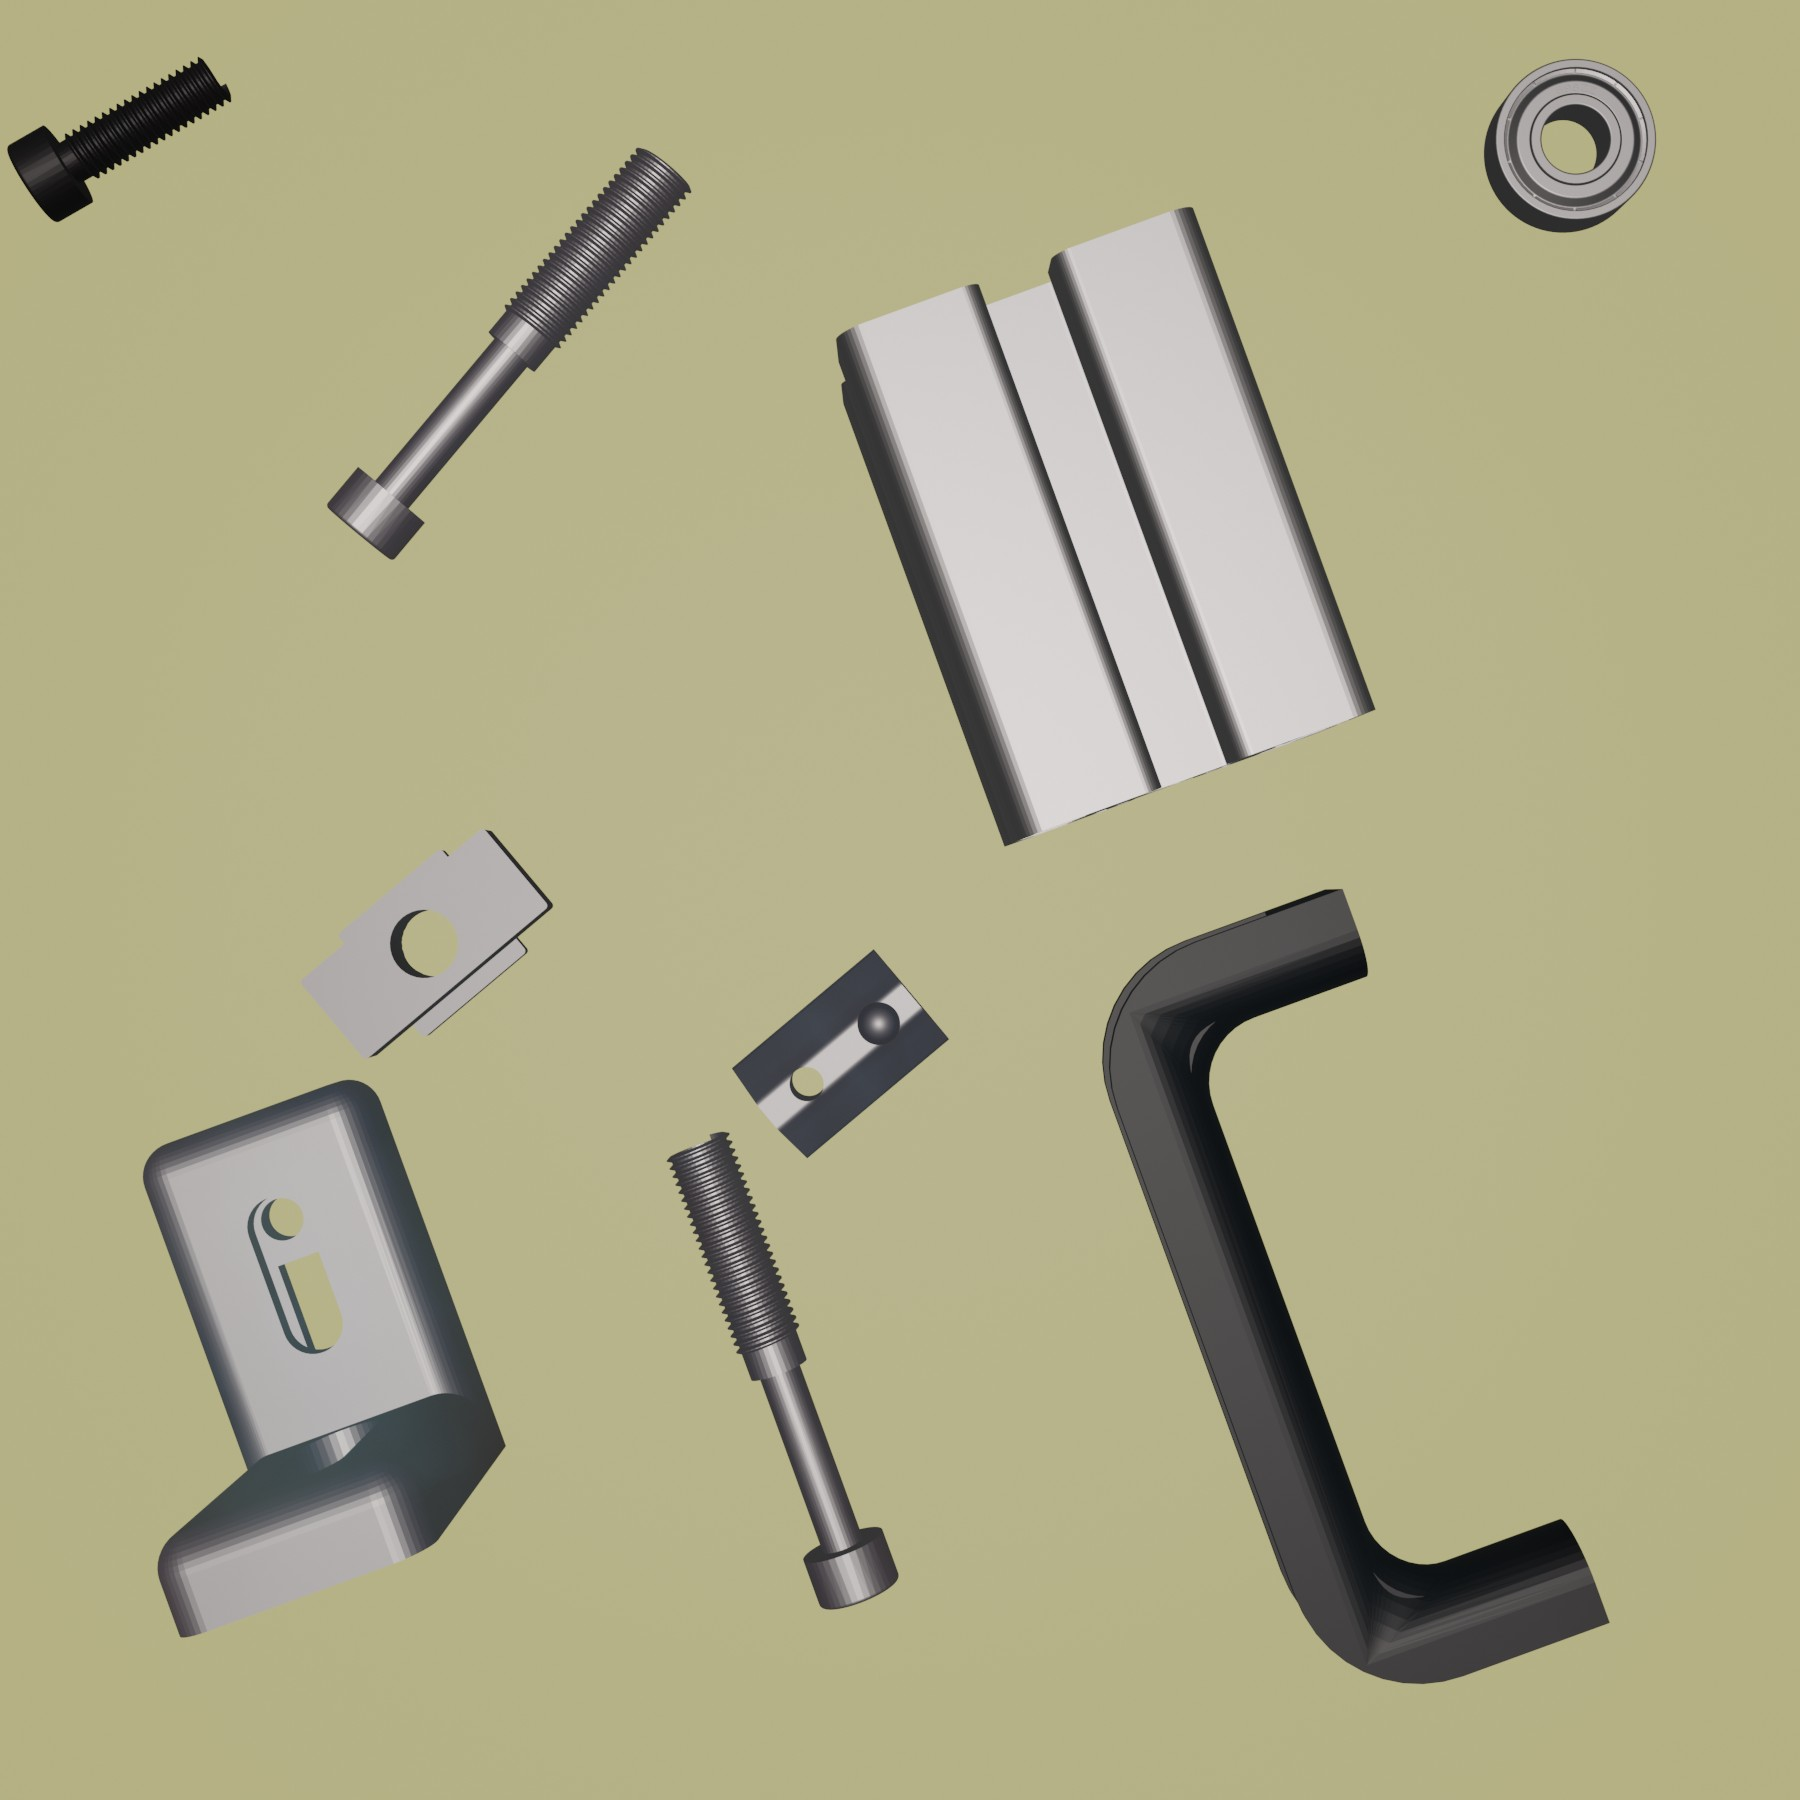Aluminium Extension: (832, 204, 1376, 851)
Ball Bearing: (1480, 58, 1658, 236)
Multiwinkel: (138, 1075, 506, 1642)
Pull Handle: (1101, 888, 1610, 1686)
Shoulder Socket Head Cap Screw: (323, 147, 696, 562), (666, 1127, 900, 1612)
Socket Head Cap Screw: (7, 54, 232, 227)
T Nut Square: (297, 823, 555, 1062)
T Spring Nut: (732, 948, 948, 1159)
